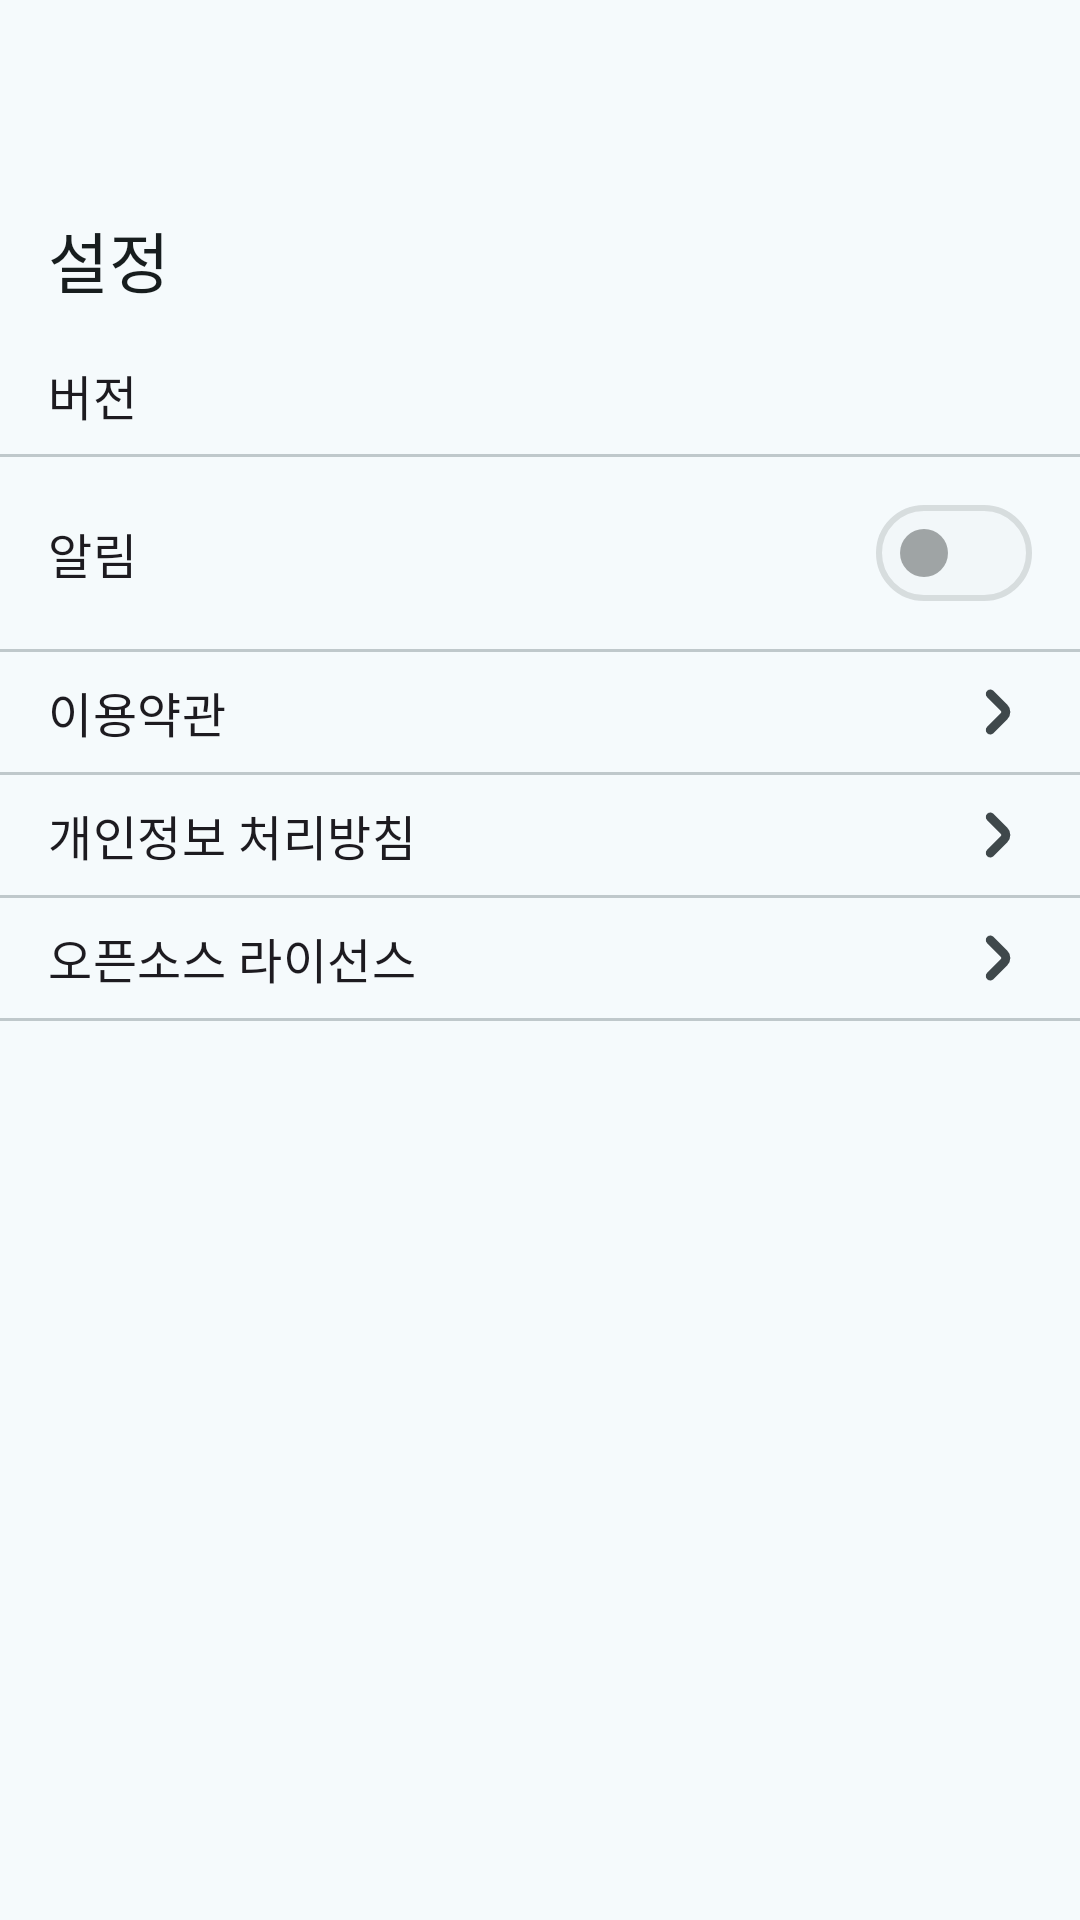

Named icons in this screenshot (1080x1920) and their bounding boxes, (x1, y1, x2, y2):
오른쪽 화살표: (986, 689, 1011, 735), (986, 812, 1011, 858), (986, 935, 1011, 981)
